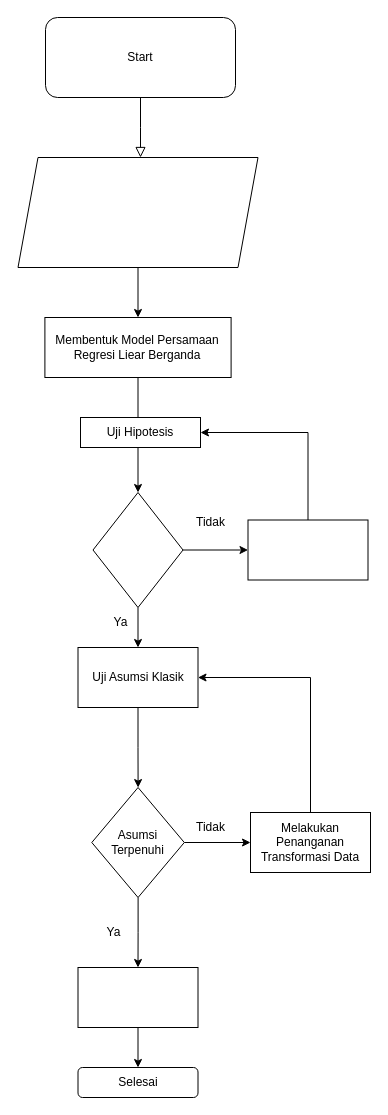
Some shapes in this 388 by 1115 pixel diagram are drawn without their labels. Each missing label, with the centre of its shape:
"Data IPM, Rata-Rata AHH, dan Tingkat Penyelesaian Pendidikan Tingkat SMA" goes at (137,212).
"Hasil Dan Pembahasan (Integrasi Model)" goes at (137,997).
"Mengeluarkan Satu Variabel Independen" goes at (307,549).
"Pengaruh Signifikan" goes at (137,550).
